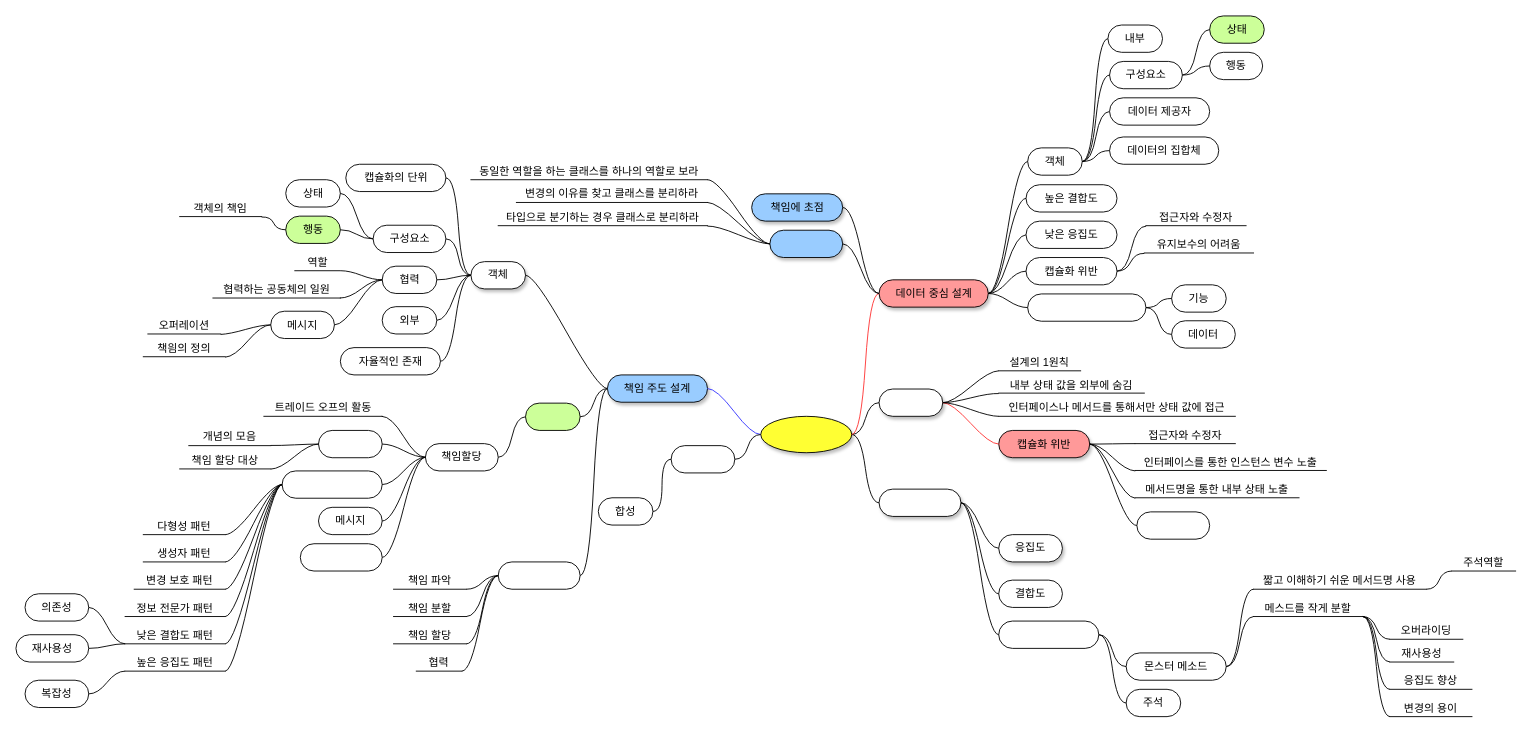
Some shapes in this 1532 by 733 pixel diagram are drawn without their labels. The shapes that lost their labels are listed below. From the top down, each one's centre as x and y in pixels, then its label:
At point 806,245: "리팩토링".
At point 1086,307: "절차적 프로그래밍".
At point 552,416: "책임".
At point 911,403: "캡슐화".
At point 350,444: "도메인".
At point 806,435: "객체 지향 설계".
At point 702,459: "유연성".
At point 331,484: "GRASP 패턴".
At point 920,504: "평가 척도".
At point 1173,525: "파급효과".
At point 340,557: "객체 선택".
At point 538,575: "설계 과정".
At point 1048,634: "메스드 응집도".
